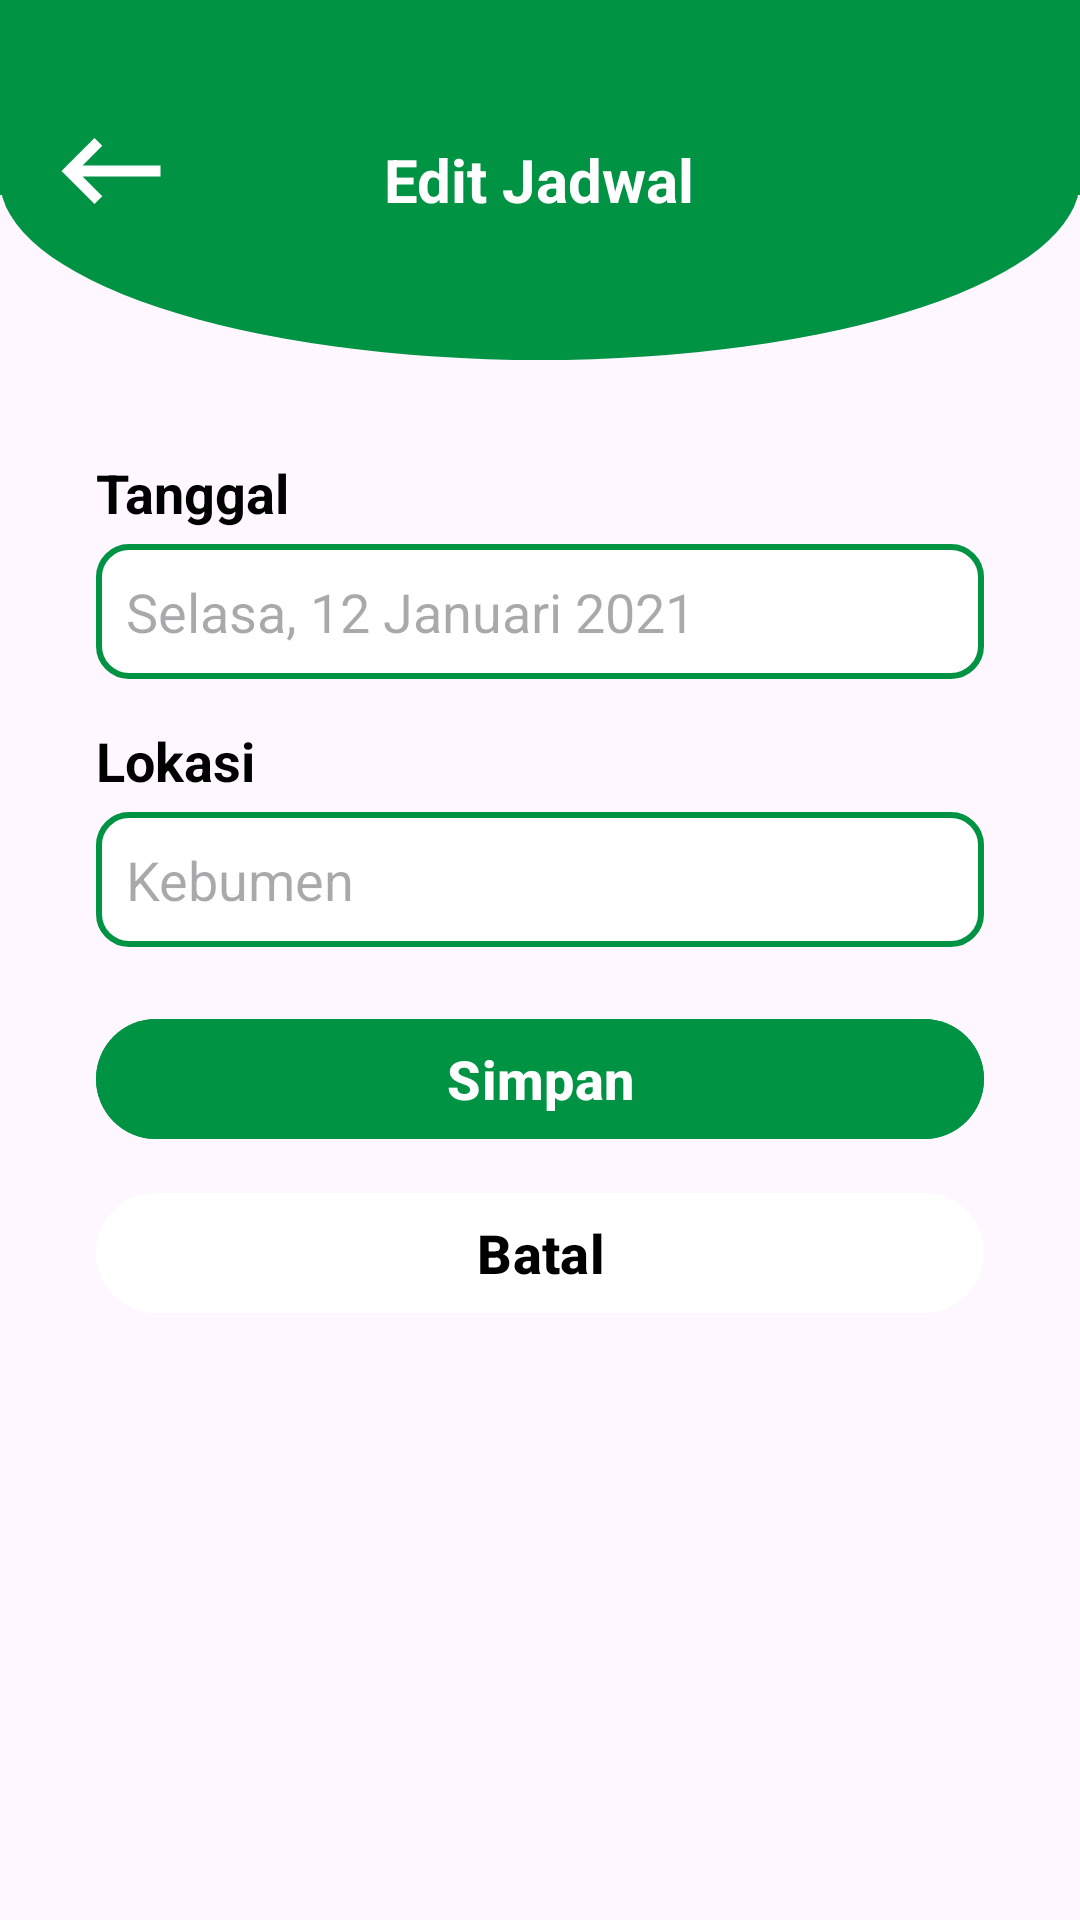

Where to tap for icons on this 1080px×1920px app screen, as (x=x, y=y):
keyboard backspace: (x=111, y=171)
